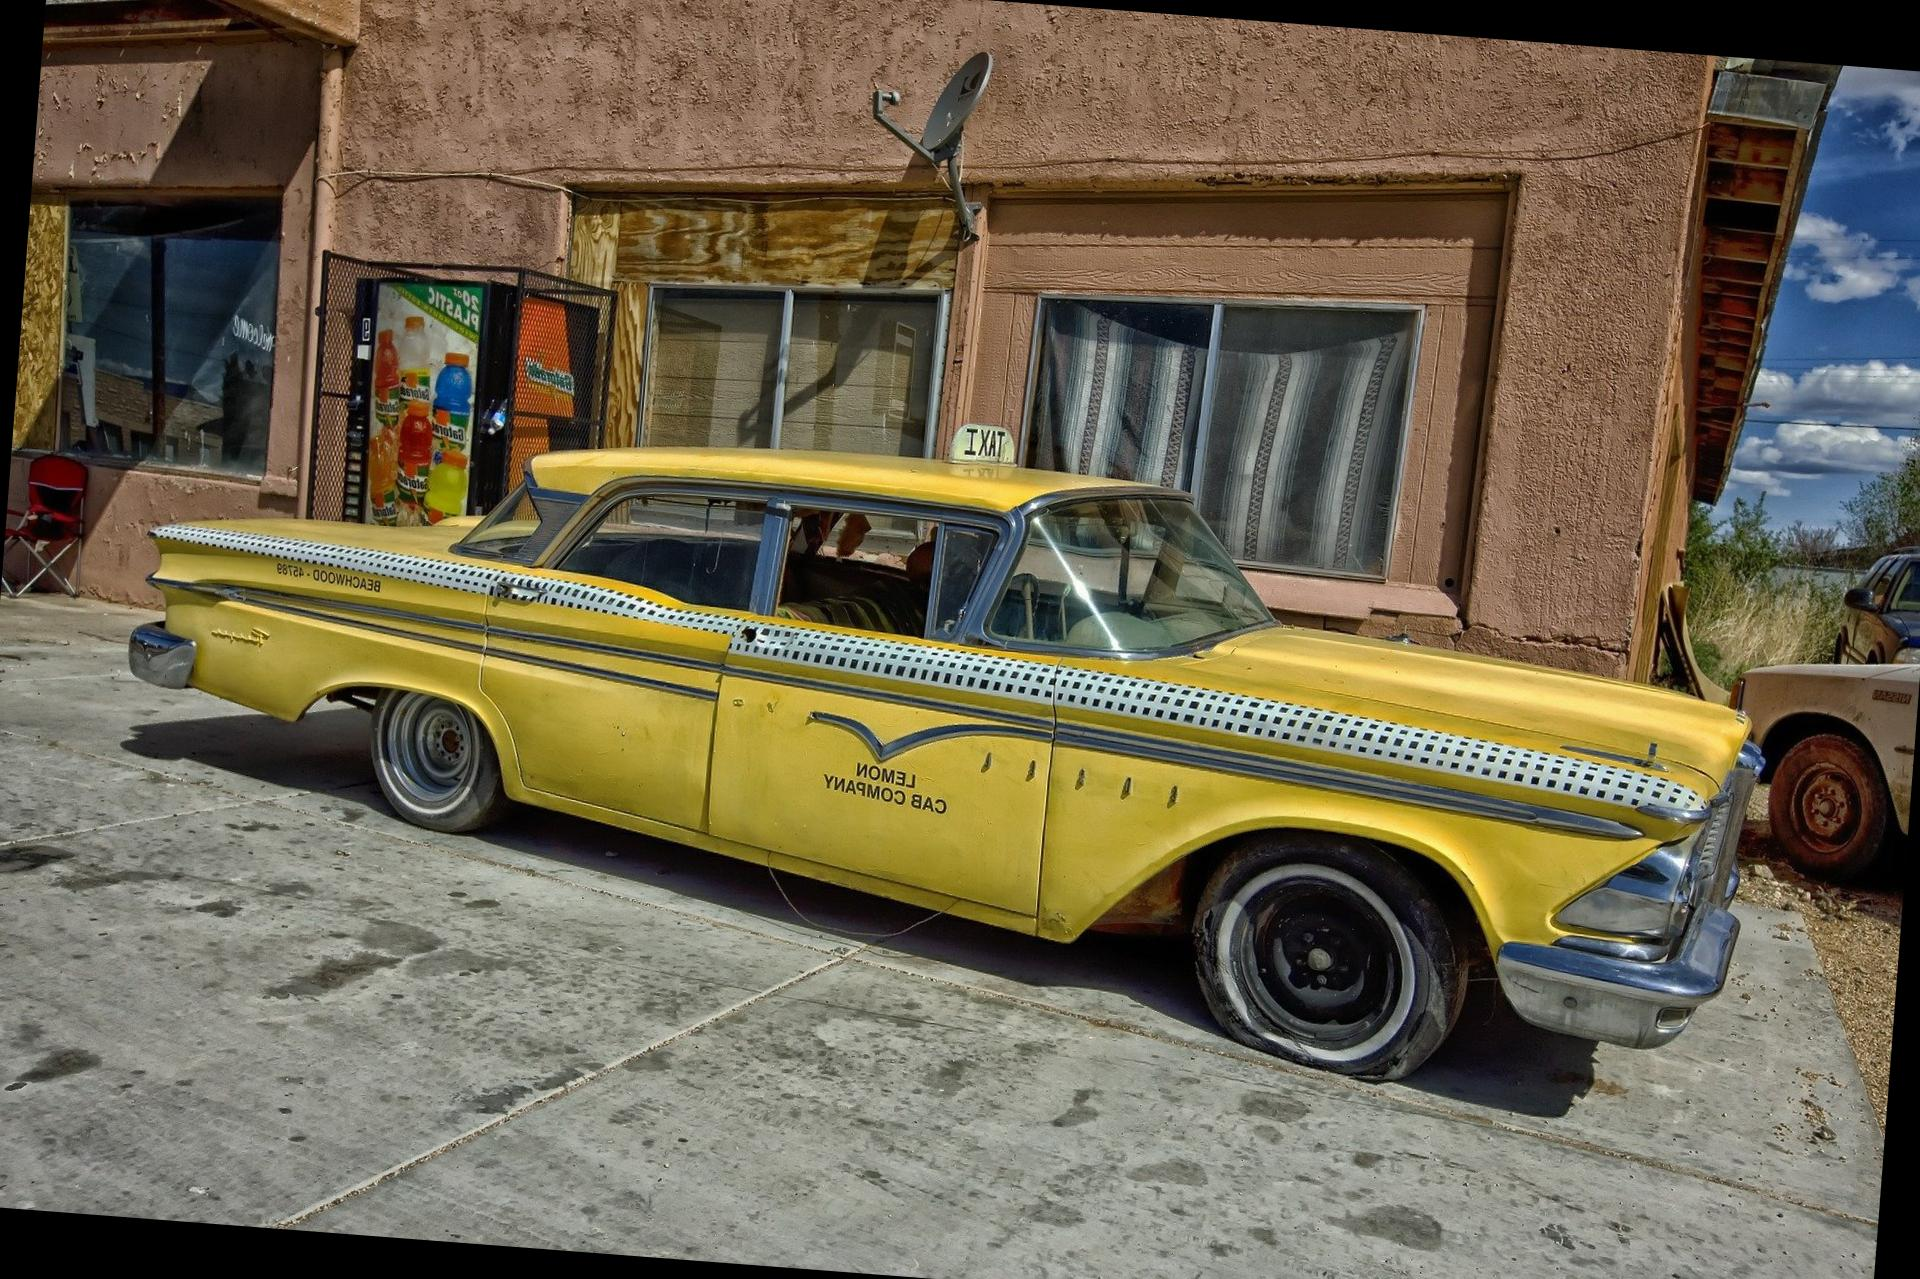taxi: (106, 485, 1754, 1091)
